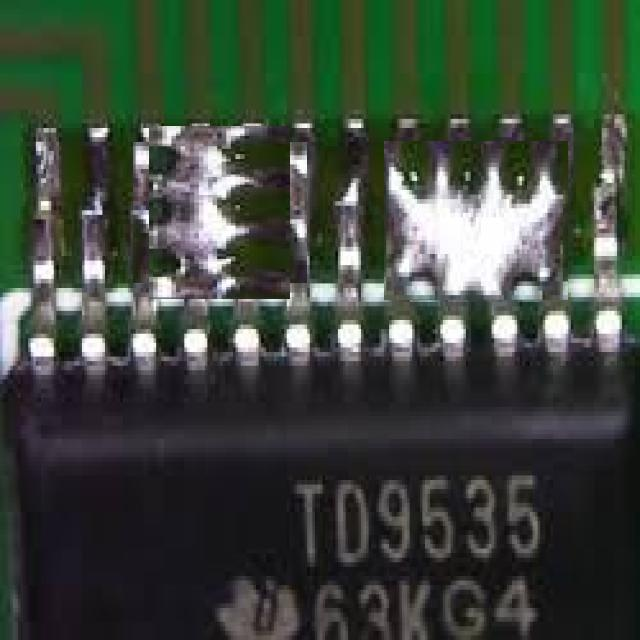Short_circuit: (384, 142, 568, 302), (141, 134, 299, 291)
